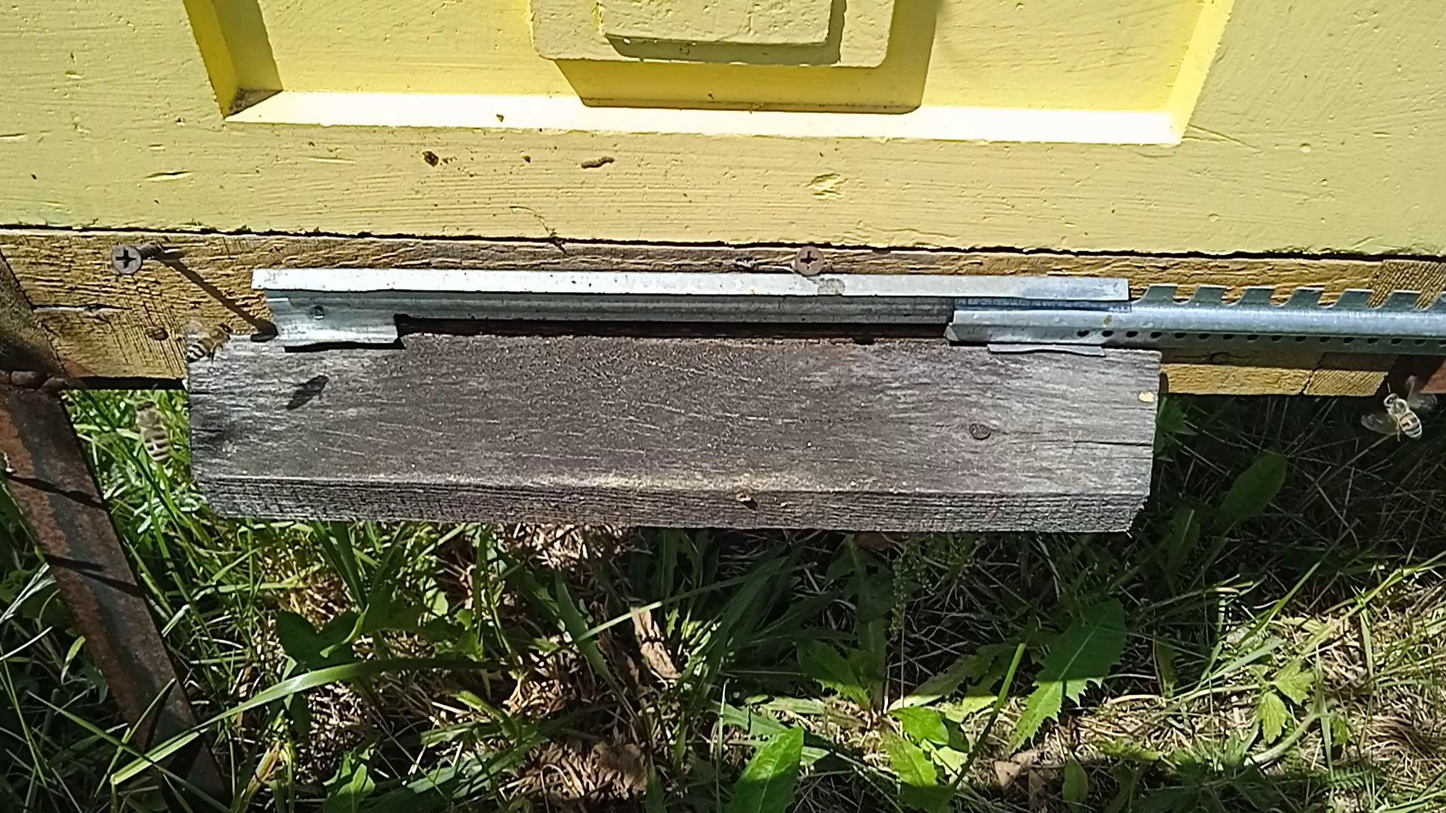worker-bee: (133, 399, 172, 466), (1383, 392, 1424, 440), (189, 321, 233, 363)
